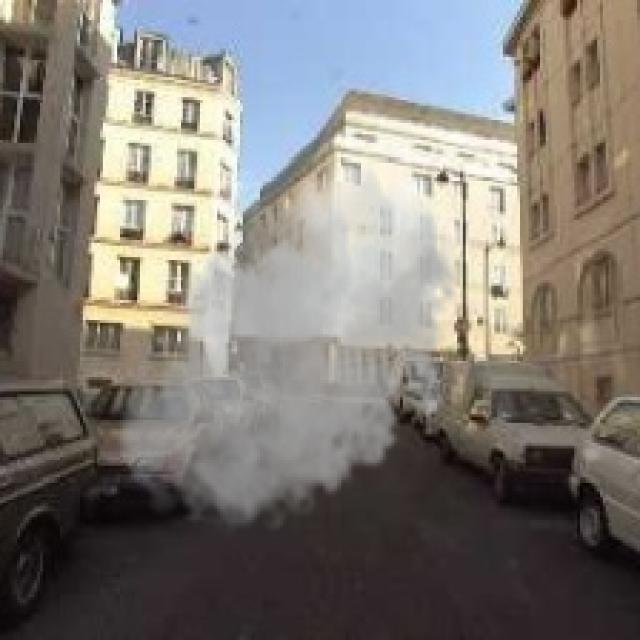Smoke: (111, 151, 468, 543)
